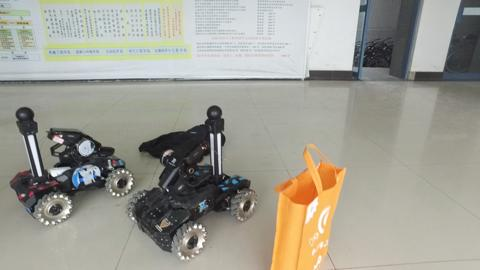bag: (273, 143, 341, 269)
chariot: (127, 106, 255, 260), (10, 107, 135, 225)
